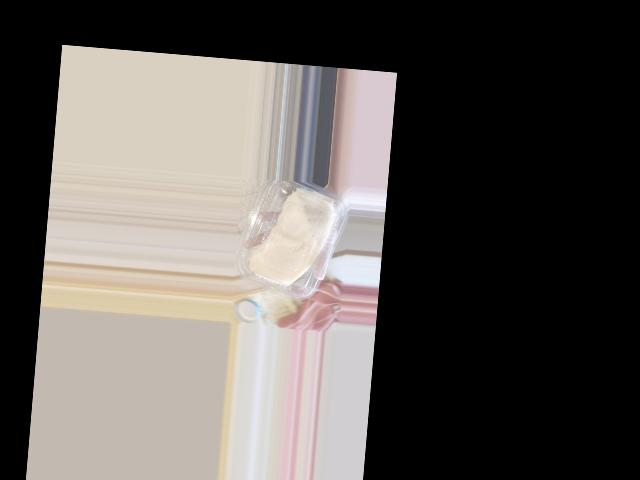cheese: (236, 176, 344, 304)
